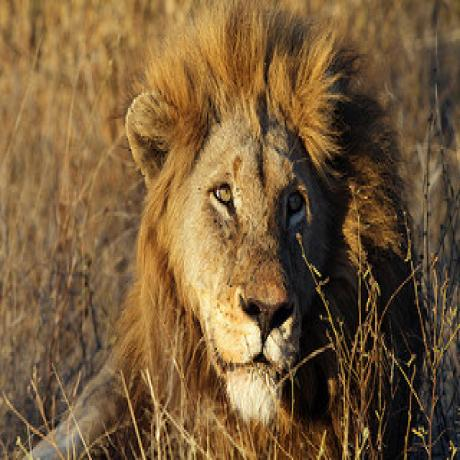Lion: (87, 0, 412, 454)
